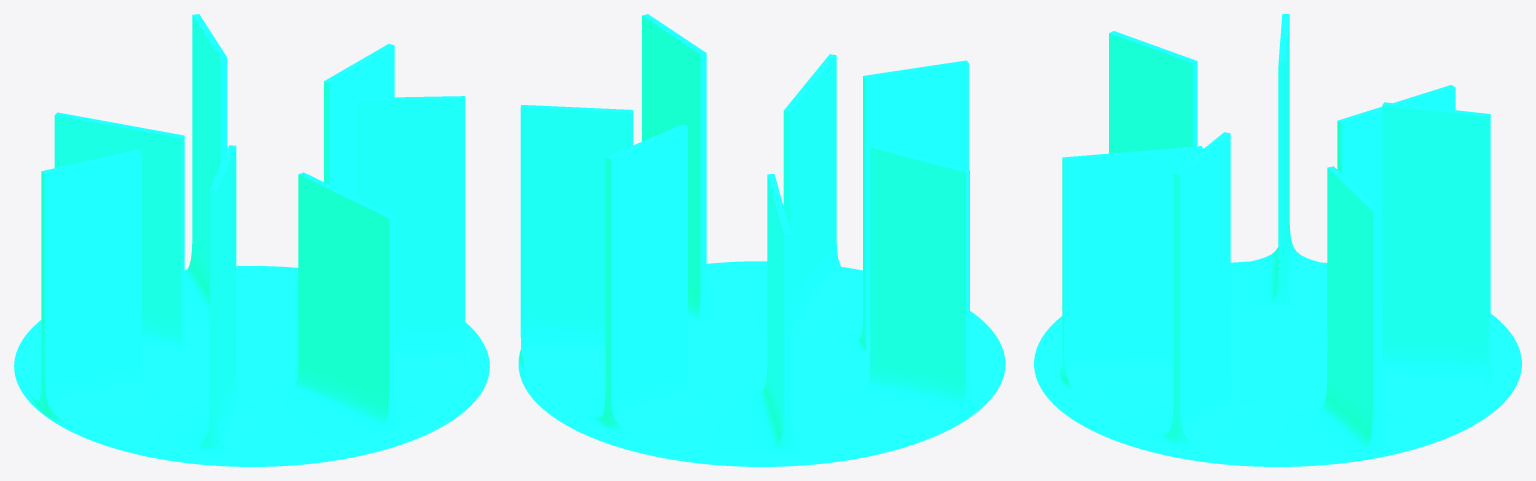
Rendered from DIP173JS.glb.
3 renders of one model, left to right at view 1: azimuth 30°, elevation 25°; view 2: azimuth 150°, elevation 25°; view 3: azimuth 270°, elevation 25°, orthographic. The views are drawn at different scales.
Visible parts, largest first — view 1: Plane045.003; view 2: Plane045.003; view 3: Plane045.003.
Boxes of the visible parts, bbox=[...] form: Plane045.003: bbox=[14, 14, 489, 466]; Plane045.003: bbox=[518, 14, 1005, 466]; Plane045.003: bbox=[1034, 14, 1521, 466].
Size of the model in its own units: 7.98 by 4.91 by 7.98.
